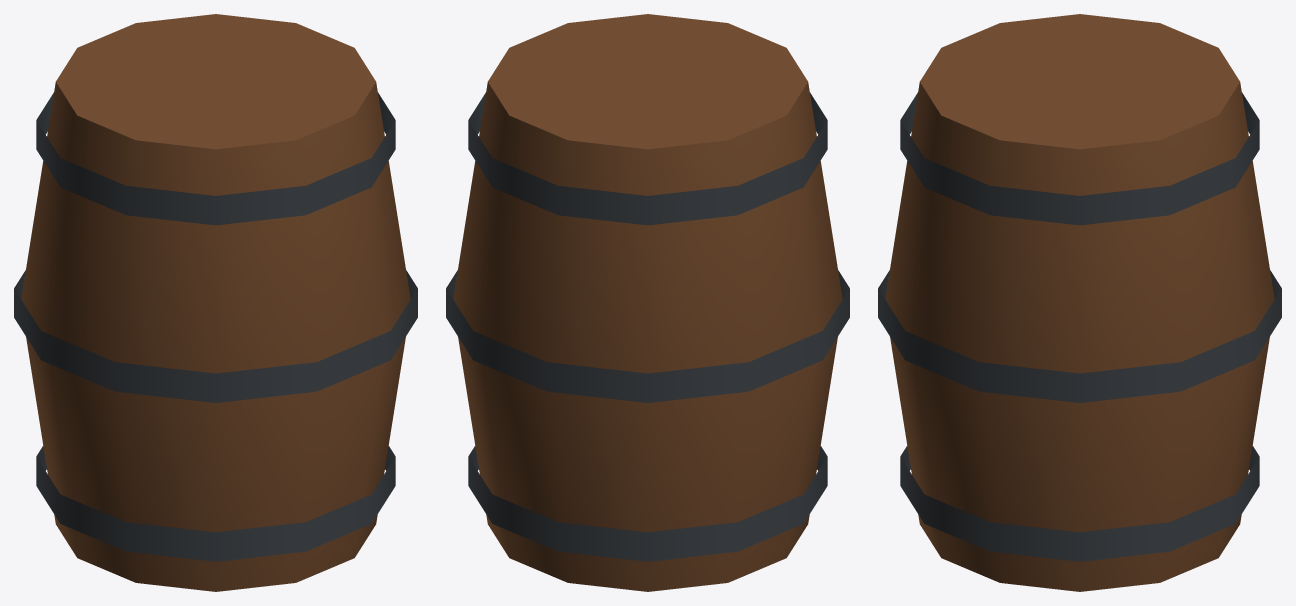
File: bochka.glb
3 views of the same model, side by side, from view 1: azimuth 30°, elevation 25°; view 2: azimuth 150°, elevation 25°; view 3: azimuth 270°, elevation 25° (orthographic).
Visible parts, largest first — view 1: bochka; view 2: bochka; view 3: bochka.
Boxes of the visible parts, x1,y1,x2,y2 form: bochka: (14,14,417,591); bochka: (446,14,849,591); bochka: (878,14,1281,591).
Bounding box in the file's own units: 0.62 × 0.75 × 0.62.
